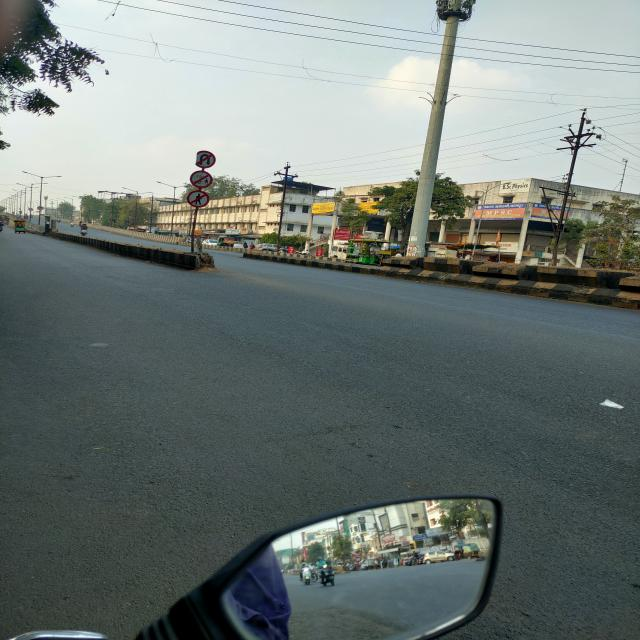CYCLE_PROHIBITED: (189, 171, 212, 188)
